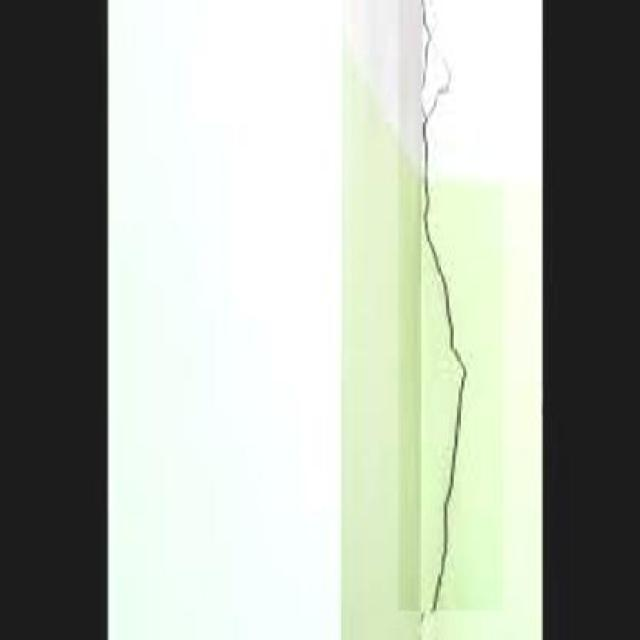Crack: (408, 10, 474, 621)
